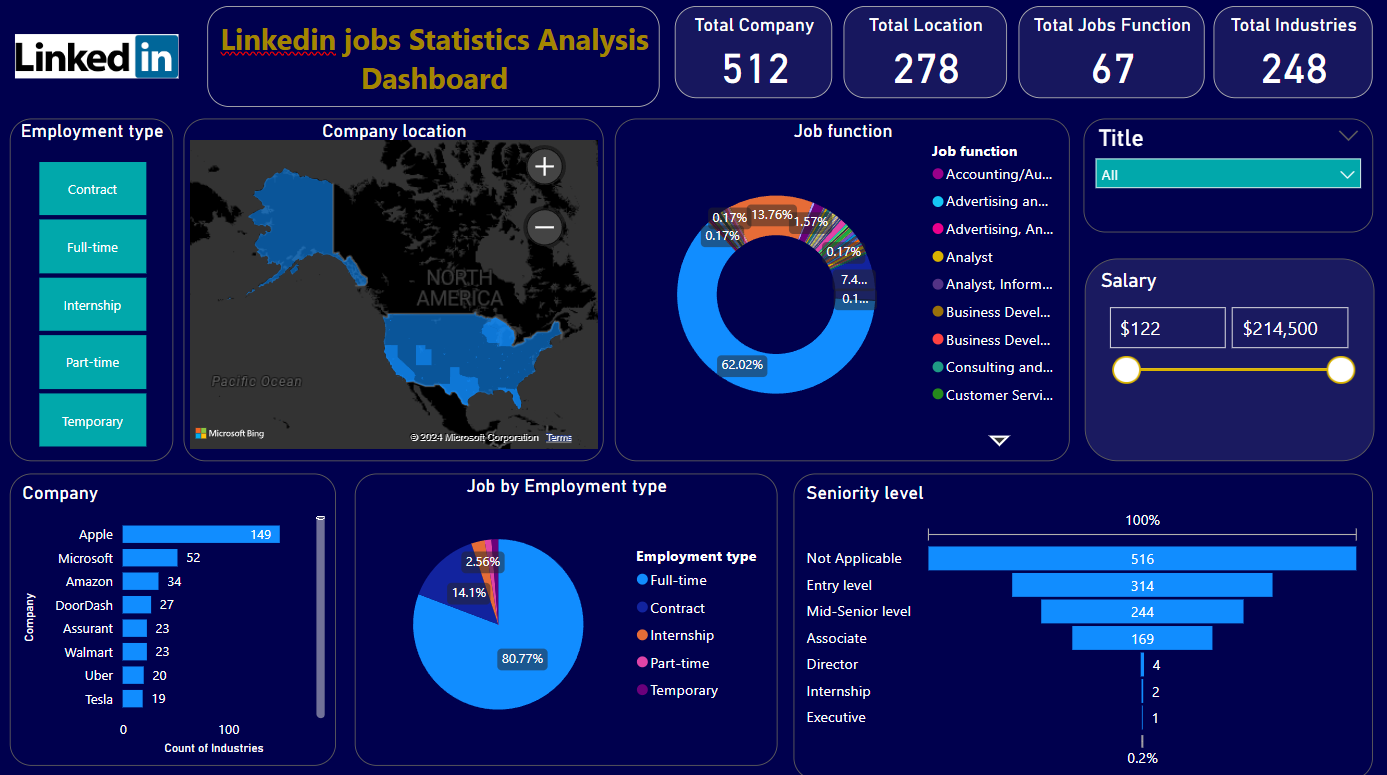

What the dashboard file says about the page in this screenshot:
{"tool":"powerbi","page":{"name":"Page 1","canvas":[1280,720],"ordinal":0},"visuals":[{"type":"clusteredBarChart","title":"Company","fields":{"Category":["power - jobs.Company"],"Y":["CountNonNull(power - jobs.Industries)"]},"box":[12.5,438.8,300,268.8],"z":0},{"type":"slicer","title":"Employment type","fields":{"Values":["power - jobs.Employment type"]},"box":[12.5,112.5,150,315],"z":1000},{"type":"slicer","title":"Salary","fields":{"Values":["power - jobs.average_salary"]},"box":[1001.2,241.2,266.2,186.2],"z":2000},{"type":"funnel","title":"Seniority level","fields":{"Y":["CountNonNull(power - jobs.Job function)"],"Category":["power - jobs.Seniority level"]},"box":[733.8,438.8,532.5,281.2],"z":3000},{"type":"pieChart","title":"Job by Employment type","fields":{"Category":["power - jobs.Employment type"],"Y":["Count(power - jobs.Job function)"]},"box":[330,438.8,388.8,268.8],"z":4000},{"type":"donutChart","title":"Job function","fields":{"Y":["Count(power - jobs.Company)"],"Category":["power - jobs.Job function"]},"box":[568.8,112.5,418.8,315],"z":5000},{"type":"image","box":[12.5,5,160,101.2],"z":6000},{"type":"textbox","box":[193.8,8.8,416.2,92.5],"z":7000},{"type":"card","title":"Total Jobs Function","fields":{"Values":["Count(power - jobs.Job function)"]},"box":[940,8.8,171.2,85],"z":8000},{"type":"card","title":"Total Company","fields":{"Values":["Count(power - jobs.Company)"]},"box":[623.8,8.8,145,85],"z":9000},{"type":"card","title":"Total Location","fields":{"Values":["Count(power - jobs.location)"]},"box":[778.8,8.8,150,85],"z":10000},{"type":"slicer","fields":{"Values":["power - jobs.Job function"]},"box":[1000,112.5,266.2,105],"z":11000},{"type":"filledMap","title":"Company location","fields":{"Category":["power - jobs.location"]},"box":[172.5,112.5,386.2,315],"z":12000},{"type":"card","title":"Total Industries","fields":{"Values":["Count(power - jobs.Industries)"]},"box":[1120,8.8,146.2,85],"z":13000}]}

Visuals, with their boxes in screenshot pixels (x1, y1, x2, y2), scaled from the page's 1280x720 canvas onto the 1387x775 screenshot:
"Company" clusteredBarChart: BBox(14, 472, 339, 762)
"Employment type" slicer: BBox(14, 121, 176, 460)
"Salary" slicer: BBox(1085, 260, 1373, 460)
"Seniority level" funnel: BBox(795, 472, 1372, 774)
"Job by Employment type" pieChart: BBox(358, 472, 779, 762)
"Job function" donutChart: BBox(616, 121, 1070, 460)
image: BBox(14, 5, 187, 114)
textbox: BBox(210, 9, 661, 109)
"Total Jobs Function" card: BBox(1019, 9, 1204, 101)
"Total Company" card: BBox(676, 9, 833, 101)
"Total Location" card: BBox(844, 9, 1006, 101)
slicer - power - jobs.Job function: BBox(1084, 121, 1372, 234)
"Company location" filledMap: BBox(187, 121, 605, 460)
"Total Industries" card: BBox(1214, 9, 1372, 101)
